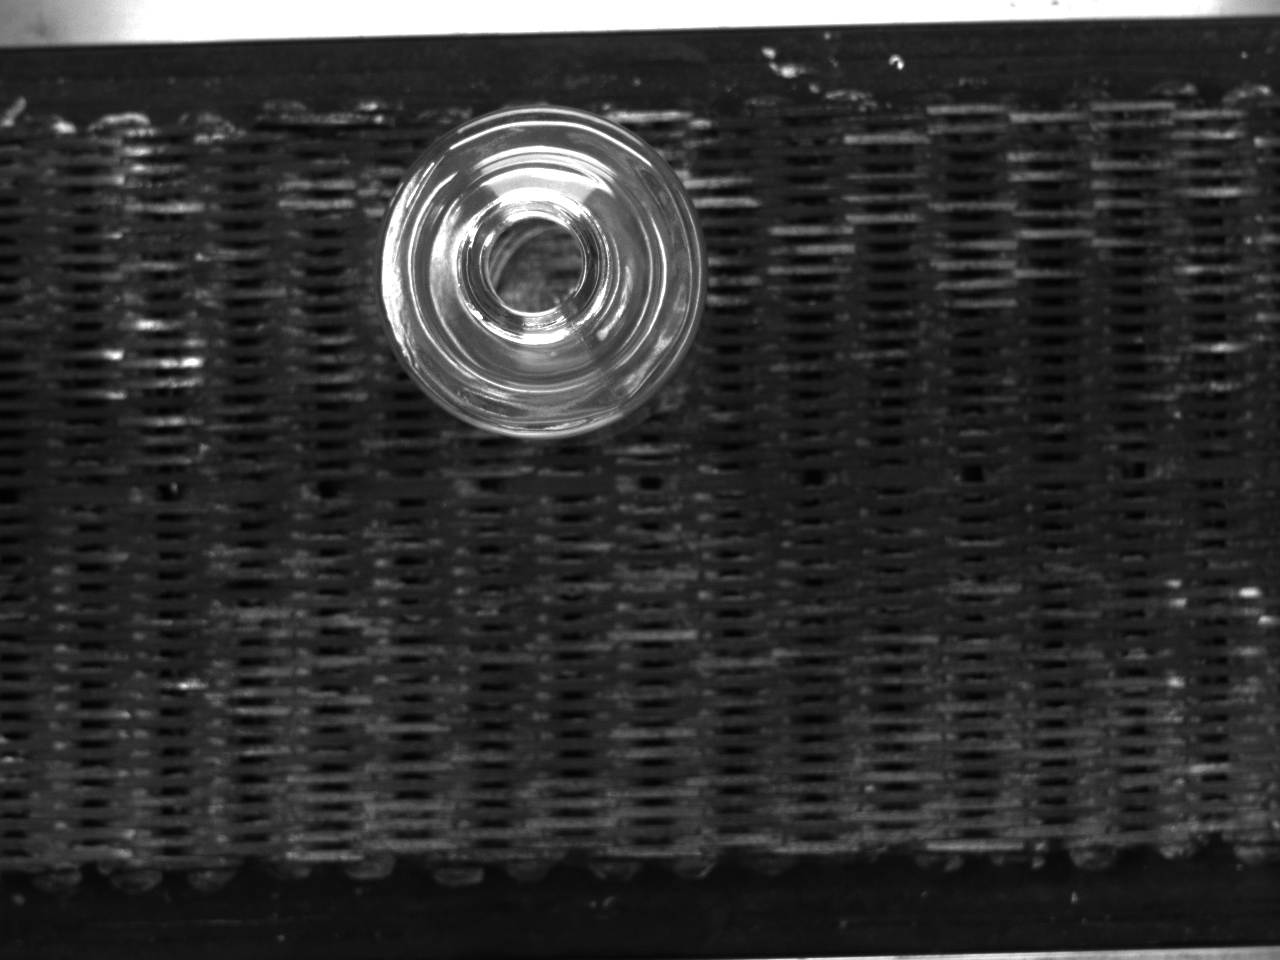bottleneck: (458, 187, 611, 344)
